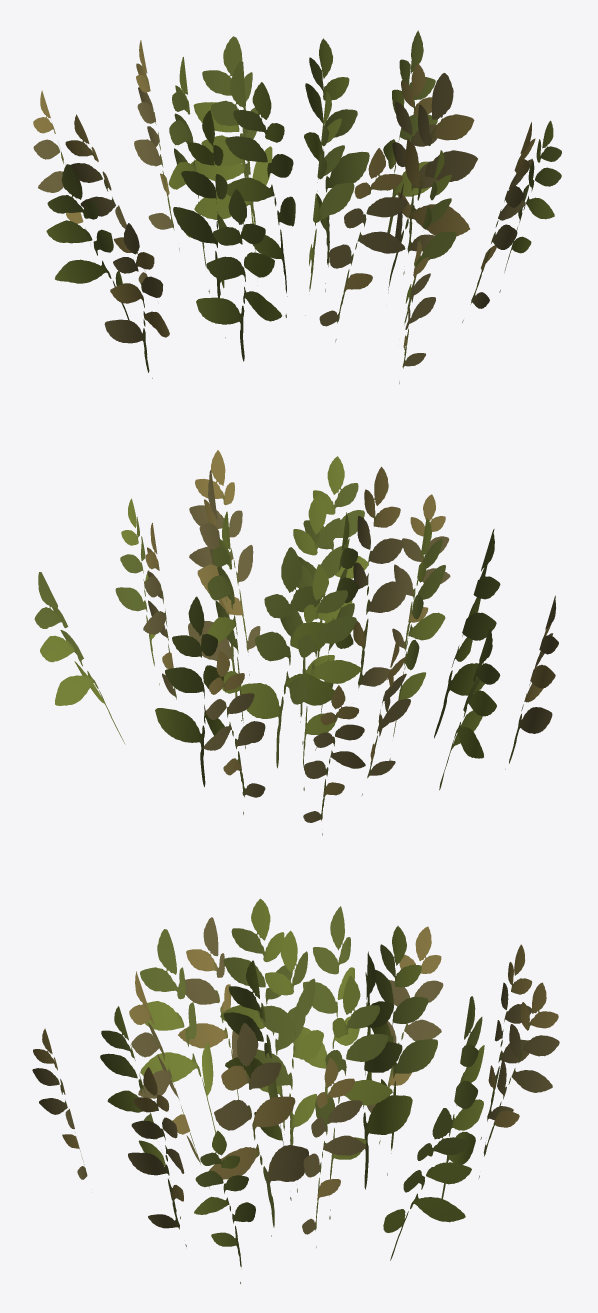
The model's file is Green_Patch_2.fbx.
3 renders of one model, top to bottom at view 1: azimuth 30°, elevation 25°; view 2: azimuth 150°, elevation 25°; view 3: azimuth 270°, elevation 25°, orthographic. The views are drawn at different scales.
Parts seen in each view (by area): view 1: Green_Patch_2; view 2: Green_Patch_2; view 3: Green_Patch_2.
Boxes of the visible parts, left/top/right/bottom form: Green_Patch_2: left=33, top=30, right=561, bottom=383; Green_Patch_2: left=34, top=450, right=558, bottom=835; Green_Patch_2: left=32, top=898, right=559, bottom=1283.
Size of the model in its own units: 133 by 70.6 by 135.
Materials: 1 (1 with a texture image).
